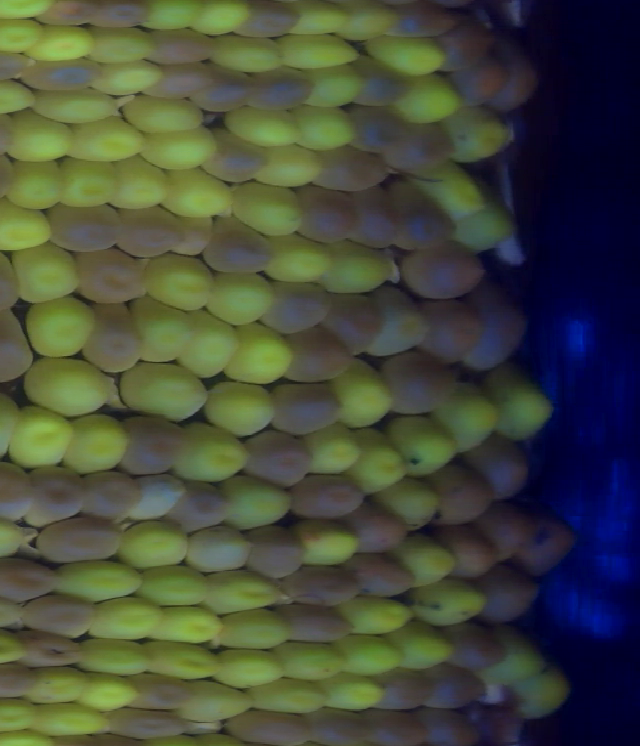fluorescent: (18, 349, 116, 420), (483, 360, 559, 450), (114, 359, 213, 427), (169, 416, 253, 488), (215, 465, 299, 537), (139, 248, 223, 317), (312, 232, 398, 299), (123, 290, 197, 367), (3, 399, 79, 472), (5, 239, 85, 308), (431, 380, 501, 458), (385, 415, 465, 483), (59, 409, 137, 478), (229, 179, 310, 245), (49, 554, 152, 605), (175, 307, 247, 379), (23, 290, 98, 359), (221, 322, 300, 387), (82, 590, 172, 647), (203, 377, 285, 439), (151, 162, 240, 219), (405, 574, 494, 631), (331, 358, 396, 436), (202, 266, 281, 329), (117, 513, 195, 576), (344, 424, 412, 496), (64, 114, 153, 169), (198, 566, 289, 619), (220, 99, 310, 152), (135, 123, 228, 174), (0, 109, 81, 167), (178, 519, 255, 579), (199, 30, 295, 78), (362, 29, 450, 81), (443, 103, 513, 168), (372, 474, 445, 536), (392, 71, 470, 129), (456, 186, 522, 254), (263, 230, 339, 289), (275, 29, 368, 77), (483, 624, 551, 689), (104, 154, 174, 217), (267, 637, 355, 686), (292, 99, 366, 157), (418, 163, 488, 224), (213, 604, 296, 655), (139, 637, 226, 685), (513, 659, 575, 726), (292, 515, 367, 570), (122, 92, 209, 139), (334, 590, 419, 638), (329, 630, 409, 681), (132, 563, 215, 612), (73, 630, 156, 679), (55, 153, 125, 211), (205, 645, 293, 691), (313, 668, 395, 717), (26, 87, 121, 129), (147, 599, 228, 648), (395, 532, 459, 594), (25, 699, 115, 743), (300, 420, 365, 480), (391, 620, 463, 674), (245, 675, 333, 719), (77, 24, 163, 69), (68, 667, 146, 716), (2, 156, 72, 210), (0, 194, 60, 255), (24, 21, 102, 67), (253, 142, 329, 189), (18, 659, 92, 706), (296, 64, 368, 112), (89, 58, 168, 101), (335, 1, 399, 46), (188, 1, 255, 39), (138, 1, 210, 36), (287, 1, 353, 39), (0, 13, 53, 59), (0, 73, 43, 121), (0, 693, 40, 738), (0, 512, 32, 565), (0, 622, 33, 670), (0, 1, 60, 25)
nonfluorescent: (375, 346, 465, 423), (465, 279, 534, 378), (383, 177, 463, 258), (395, 238, 490, 303), (516, 495, 585, 584), (411, 290, 490, 366), (238, 419, 319, 493), (77, 298, 148, 379), (263, 377, 350, 443), (197, 214, 283, 279), (68, 243, 152, 309), (465, 429, 536, 507), (34, 509, 126, 569), (276, 325, 362, 389), (472, 555, 545, 630), (111, 409, 188, 480), (15, 459, 92, 530), (421, 460, 498, 531), (286, 179, 364, 248), (256, 275, 339, 339), (39, 199, 132, 256), (427, 522, 507, 587), (110, 199, 192, 262), (488, 25, 543, 118), (285, 469, 373, 527), (238, 522, 314, 589), (270, 596, 359, 651), (437, 618, 517, 679), (340, 179, 405, 254), (71, 465, 146, 529), (435, 1, 497, 77), (307, 144, 394, 198), (17, 588, 105, 641), (202, 127, 279, 187), (341, 498, 415, 560), (280, 560, 367, 612), (341, 551, 425, 604), (323, 289, 389, 356), (345, 52, 417, 112), (342, 98, 416, 156), (243, 64, 323, 117), (96, 699, 192, 743), (166, 476, 233, 539), (121, 465, 195, 522), (191, 57, 263, 114), (385, 122, 456, 179), (452, 38, 507, 111), (367, 662, 439, 717), (7, 624, 88, 672), (221, 706, 318, 746), (472, 499, 531, 564), (299, 701, 384, 746), (354, 699, 435, 746), (123, 668, 198, 717), (0, 551, 64, 608), (143, 25, 221, 71), (418, 658, 485, 711), (460, 699, 530, 746), (410, 701, 483, 746), (25, 55, 105, 96), (231, 1, 307, 44), (144, 59, 218, 103), (387, 1, 464, 41), (0, 304, 37, 384), (0, 457, 39, 527), (167, 212, 220, 259), (89, 1, 159, 32), (0, 658, 43, 704), (36, 1, 100, 30), (0, 45, 31, 89)
